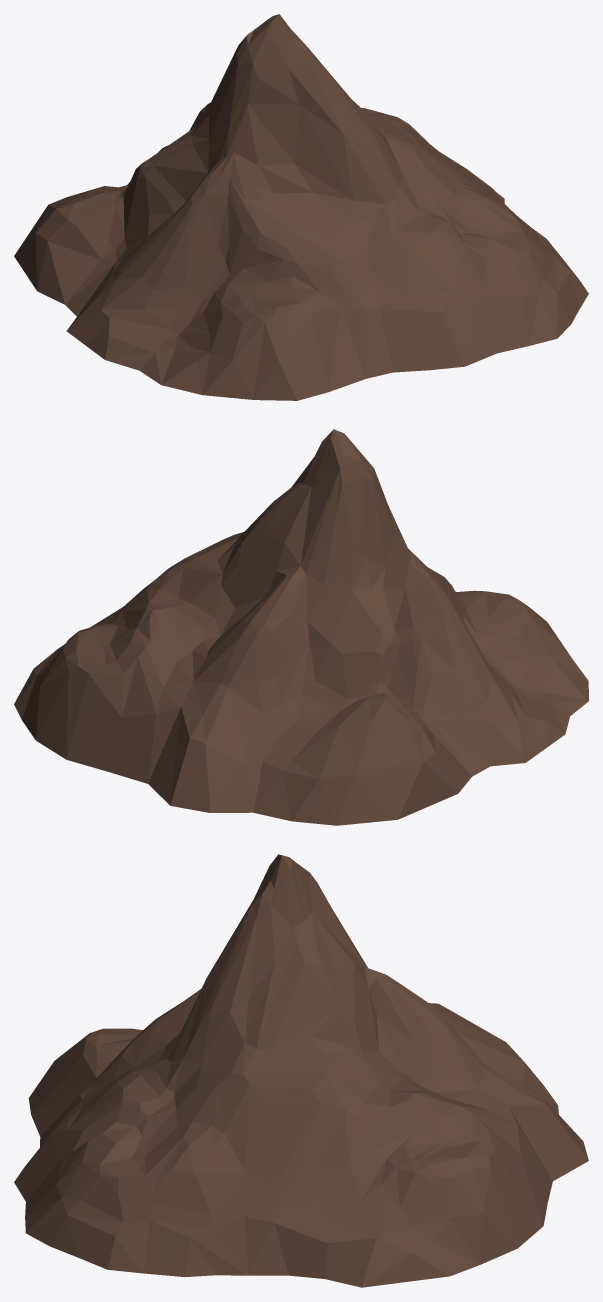
Rendered from synty-terrain-mountain-02.gltf.
The picture shows the model from 3 angles, top to bottom: view 1: azimuth 30°, elevation 25°; view 2: azimuth 150°, elevation 25°; view 3: azimuth 270°, elevation 25°; orthographic projection. The views are drawn at different scales.
Visible parts, largest first — view 1: SM_Terrain_Mountain_02; view 2: SM_Terrain_Mountain_02; view 3: SM_Terrain_Mountain_02.
Part boxes in pixels (box(x1,y1,x2,y2)): SM_Terrain_Mountain_02: box(14, 14, 588, 400); SM_Terrain_Mountain_02: box(14, 429, 588, 825); SM_Terrain_Mountain_02: box(14, 854, 588, 1287).
Size of the model in its own units: 29.09 by 16.48 by 29.08.
1 material, 1 textured.
